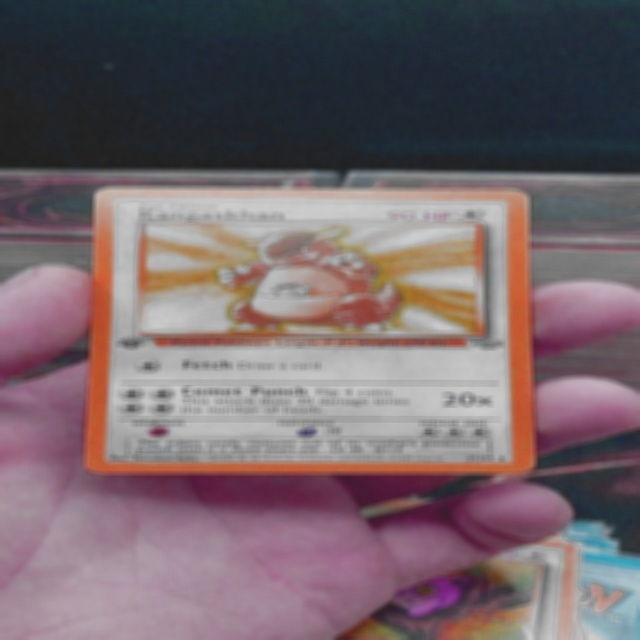card: (85, 186, 537, 474)
